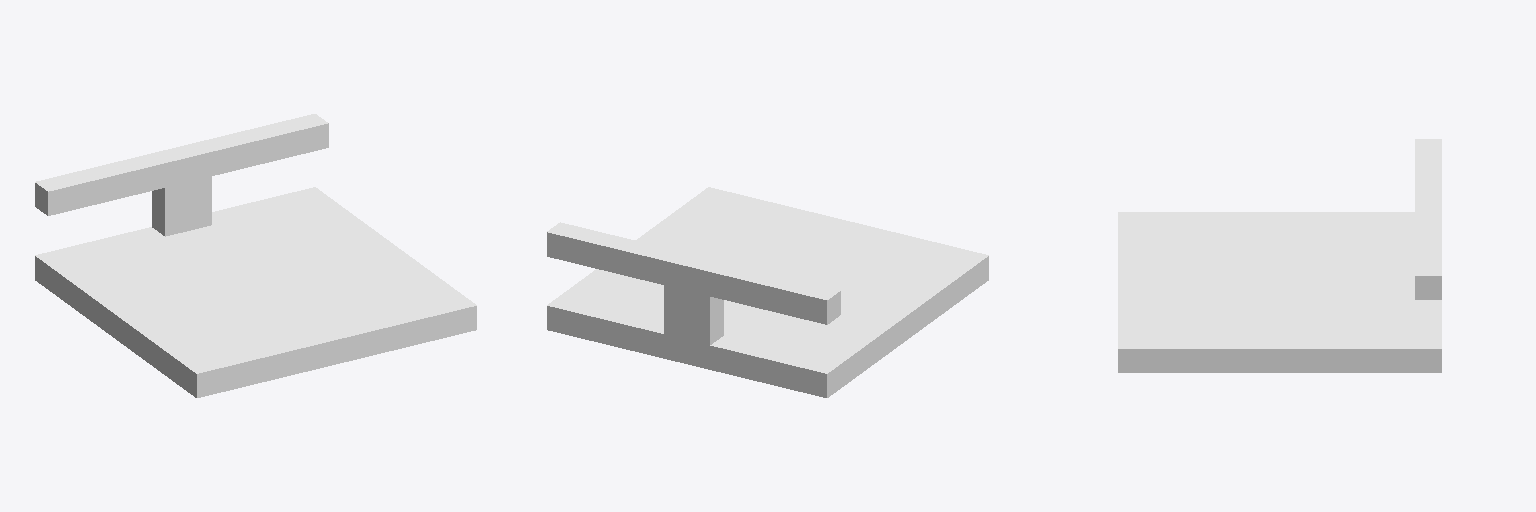
The model's file is splitter.obj.
3 views of the same model, side by side, from view 1: azimuth 30°, elevation 25°; view 2: azimuth 150°, elevation 25°; view 3: azimuth 270°, elevation 25° (orthographic).
Visible parts, largest first — view 1: splitter; view 2: splitter; view 3: splitter.
Part boxes in pixels (x1,y1,x2,y2): splitter: (35,114,476,397); splitter: (547,187,988,397); splitter: (1118,139,1441,372).
Size of the model in its own units: 12 by 4 by 12.